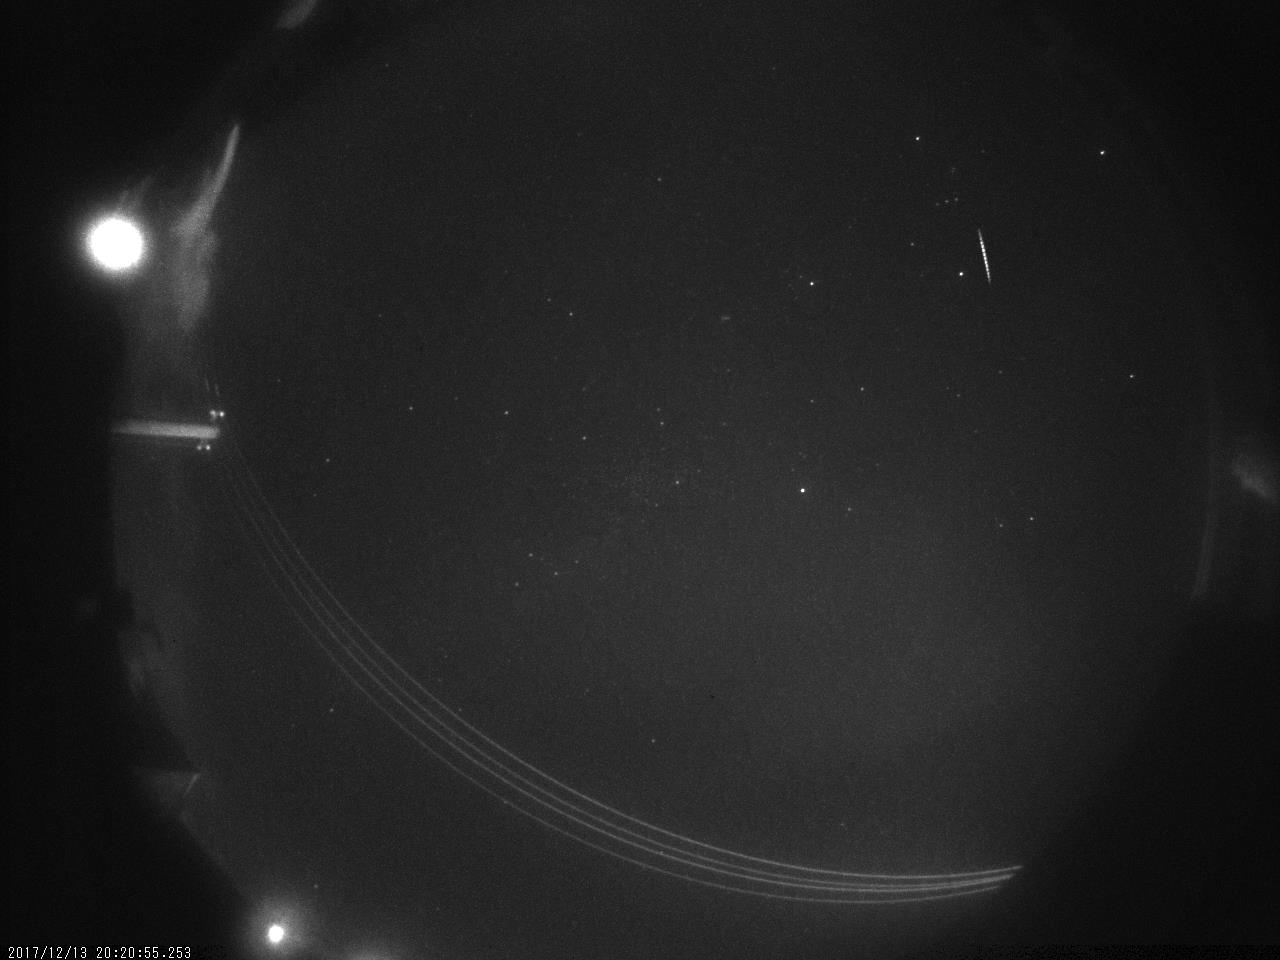meteor: (966, 222, 1003, 286)
